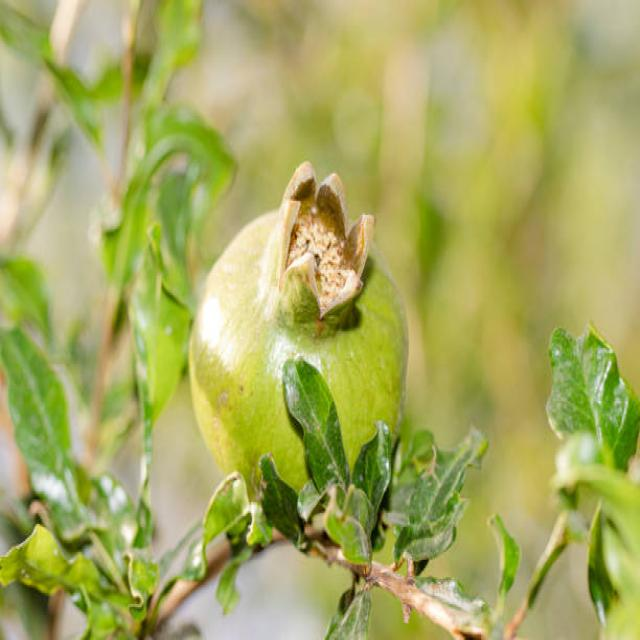Unripe: (187, 157, 408, 522)
